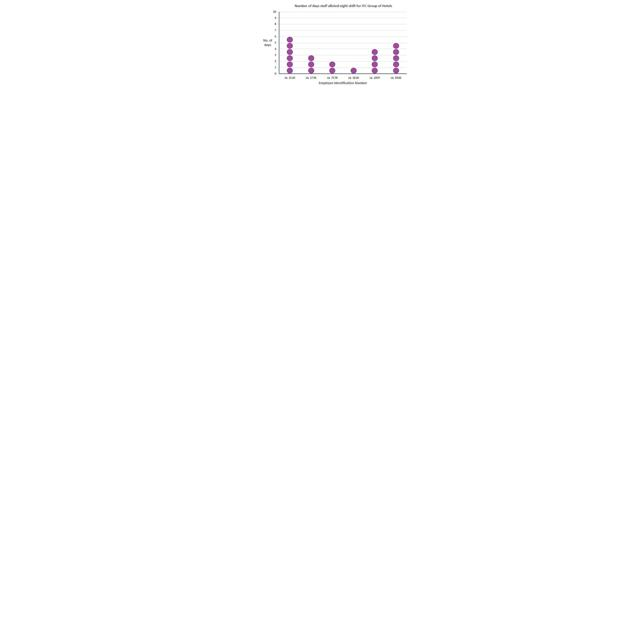Graph: (258, 2, 410, 88)
